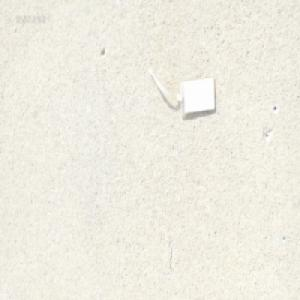LuggageTag: (147, 60, 218, 119)
